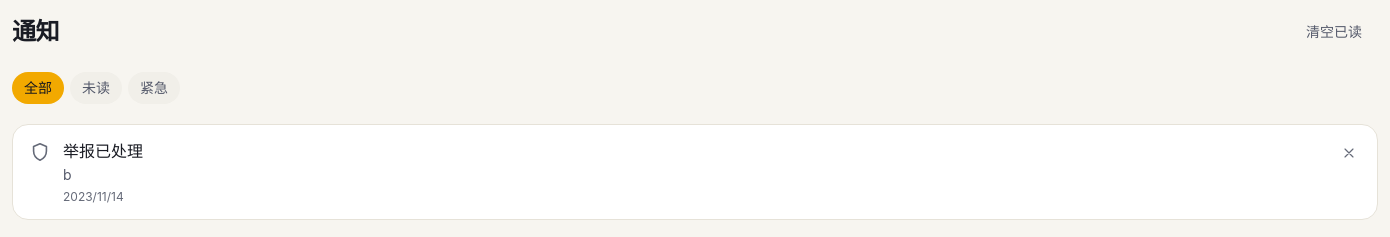
Test: NotificationsPage 渲染（防字段漂移） › 筛选无匹配 → 明确提示（而非空白误导为无通知）
Check: the text "举报已处理" is shown, box x1=63 y1=139 x2=143 y2=163
Click the button "紧急" at (154, 88), box x1=128 y1=72 x2=180 y2=104
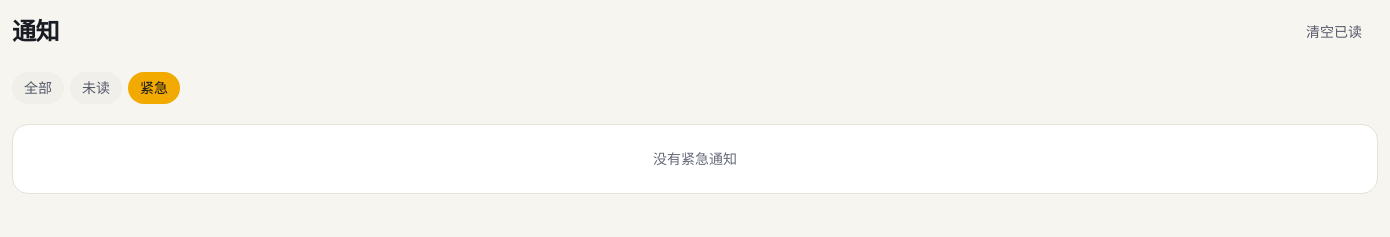
Check: the text "没有紧急通知" is shown, box x1=653 y1=150 x2=737 y2=167
Check: the button "举报已处理" is gone
